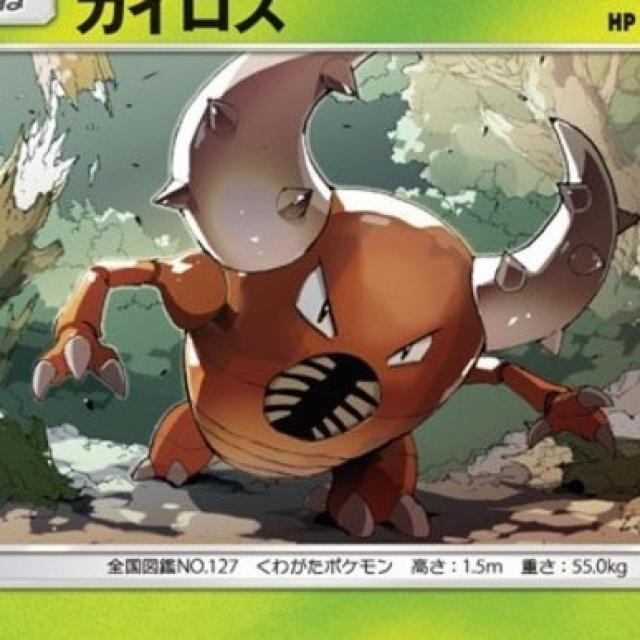Pinsir: (184, 49, 560, 508)
